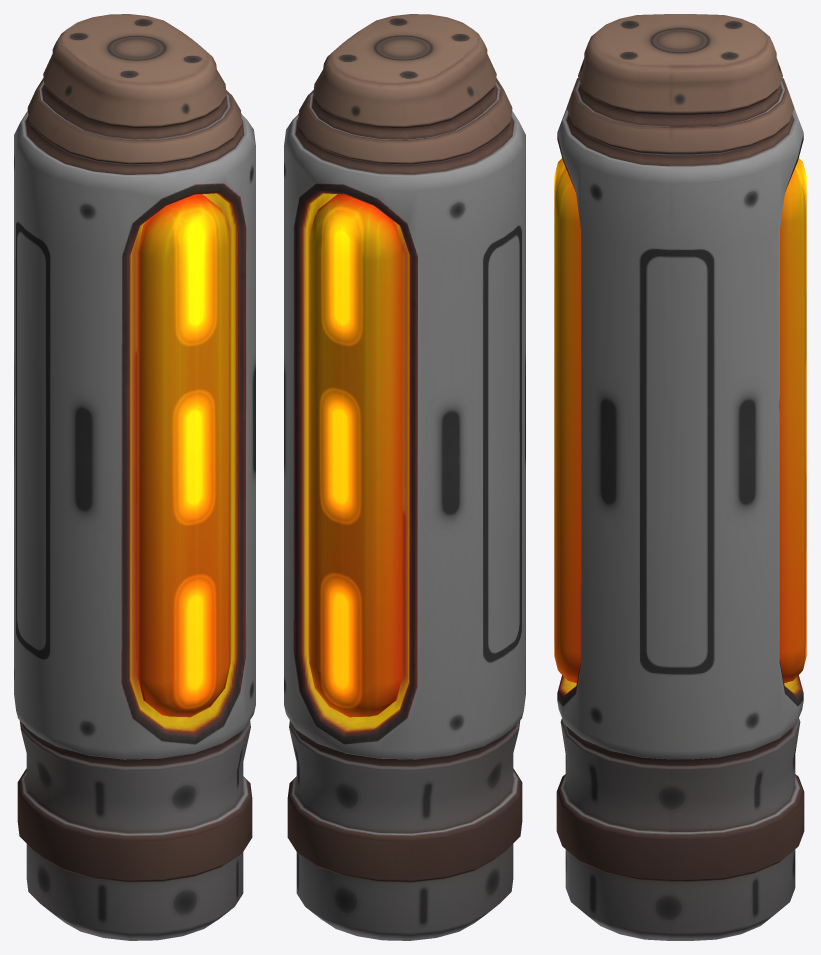
Rendered from electric_candel.glb.
The picture shows the model from 3 angles, left to right: view 1: azimuth 30°, elevation 25°; view 2: azimuth 150°, elevation 25°; view 3: azimuth 270°, elevation 25°; orthographic projection.
Parts seen in each view (by area): view 1: Cylinder_Sci_Fi_1_1; view 2: Cylinder_Sci_Fi_1_1; view 3: Cylinder_Sci_Fi_1_1.
Part boxes in pixels (<box>): Cylinder_Sci_Fi_1_1: <box>14,14,255,940</box>; Cylinder_Sci_Fi_1_1: <box>284,14,525,940</box>; Cylinder_Sci_Fi_1_1: <box>554,14,806,940</box>.
Bounding box in the file's own units: 0.1168 × 0.4581 × 0.1211.
Materials: 1 (1 with a texture image).
